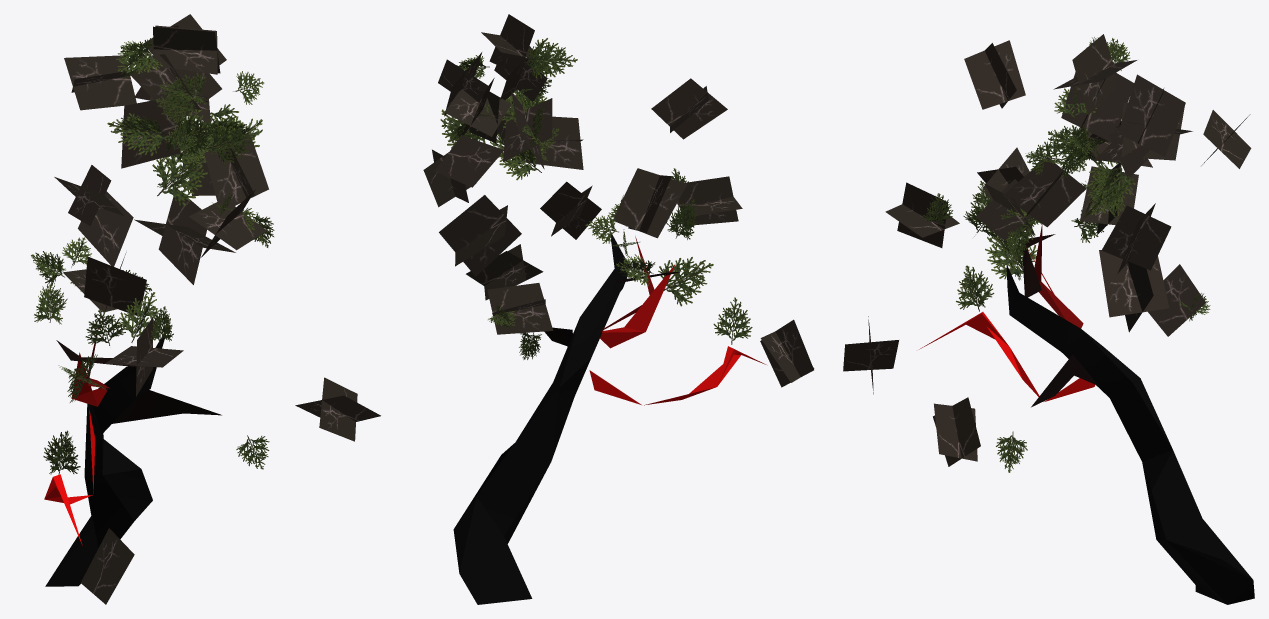
The model's file is cpine3 lod4.FBX.
3 renders of one model, left to right at view 1: azimuth 30°, elevation 25°; view 2: azimuth 150°, elevation 25°; view 3: azimuth 270°, elevation 25°, orthographic. The views are drawn at different scales.
Parts seen in each view (by area): view 1: cpine3_LOD4; view 2: cpine3_LOD4; view 3: cpine3_LOD4.
Part boxes in pixels (bbox=[...]): cpine3_LOD4: bbox=[31, 14, 380, 604]; cpine3_LOD4: bbox=[423, 14, 814, 604]; cpine3_LOD4: bbox=[843, 34, 1254, 604].
Bounding box in the file's own units: 94894 × 157390 × 102564.
